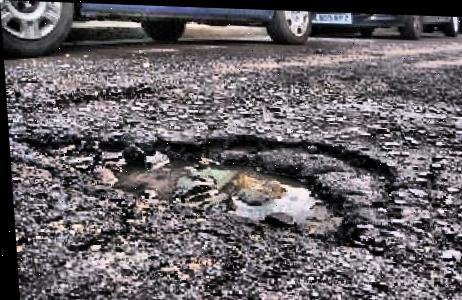pothole: (14, 122, 398, 248)
